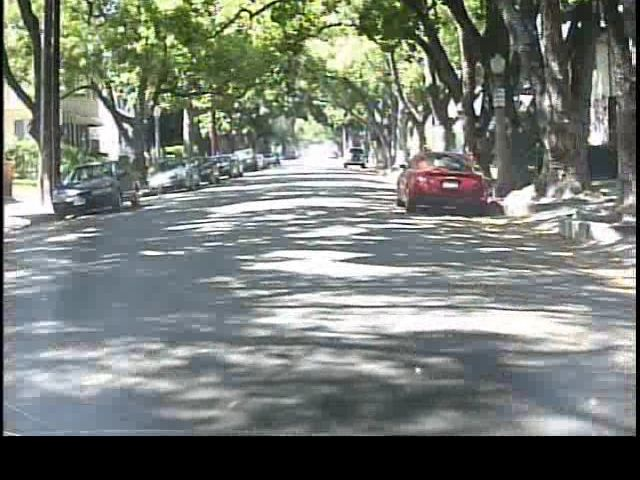person: (138, 145, 158, 187)
